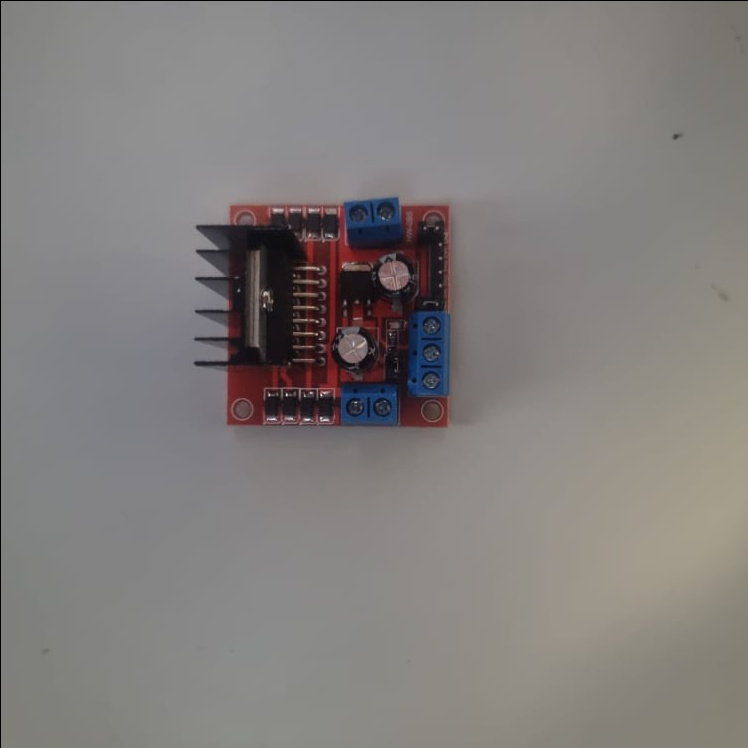MOTOR: (191, 193, 449, 429)
